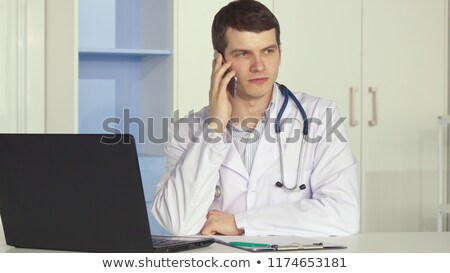phone: (211, 45, 238, 97)
talk: (207, 37, 280, 118)
